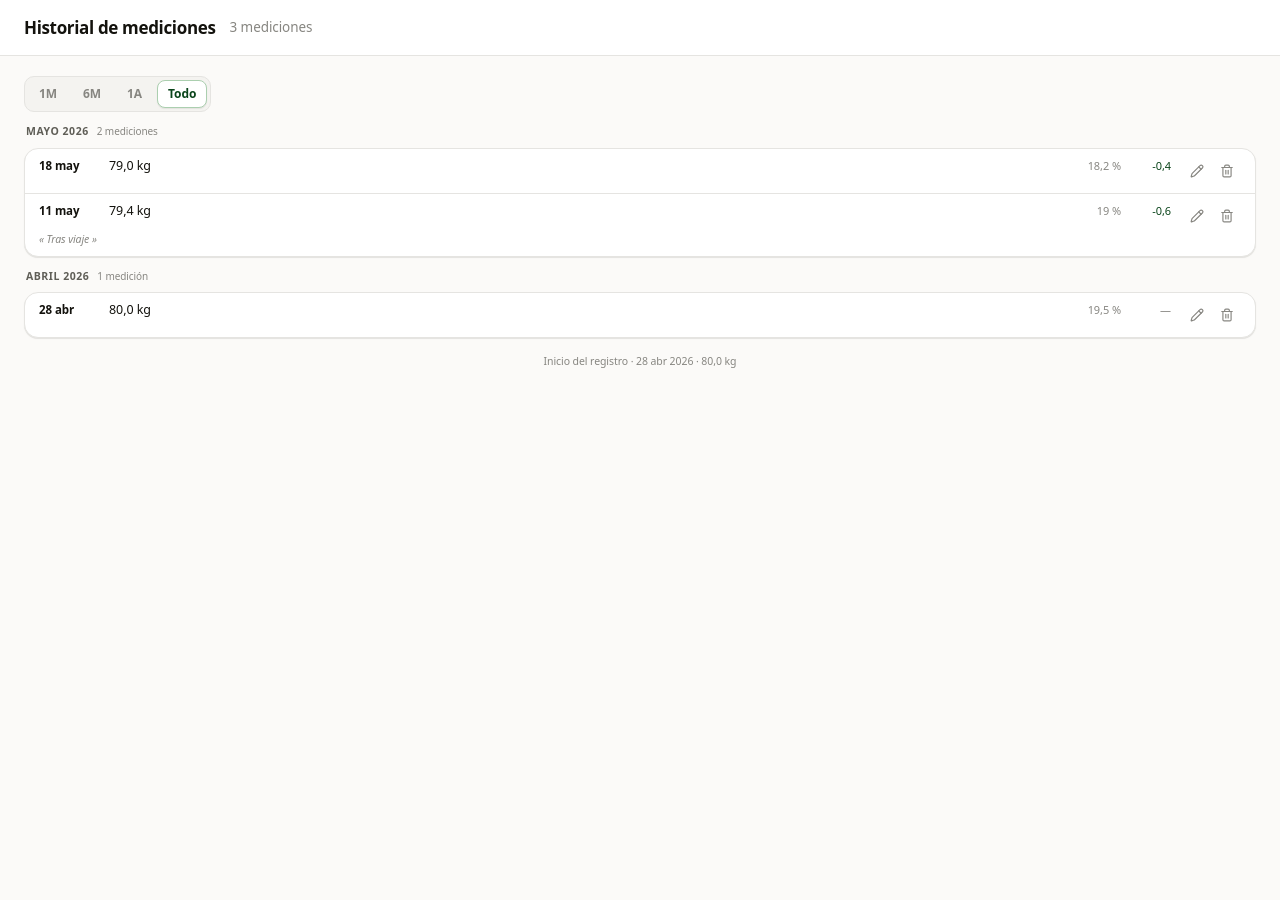
Test case: MeasurementHistoryPage › opens the measurement dialog from a row (edit)
The image size is (1280, 900).
Click the button named "Editar" next to "-0,4". click: click(1197, 171)
box: [1183,157,1211,185]
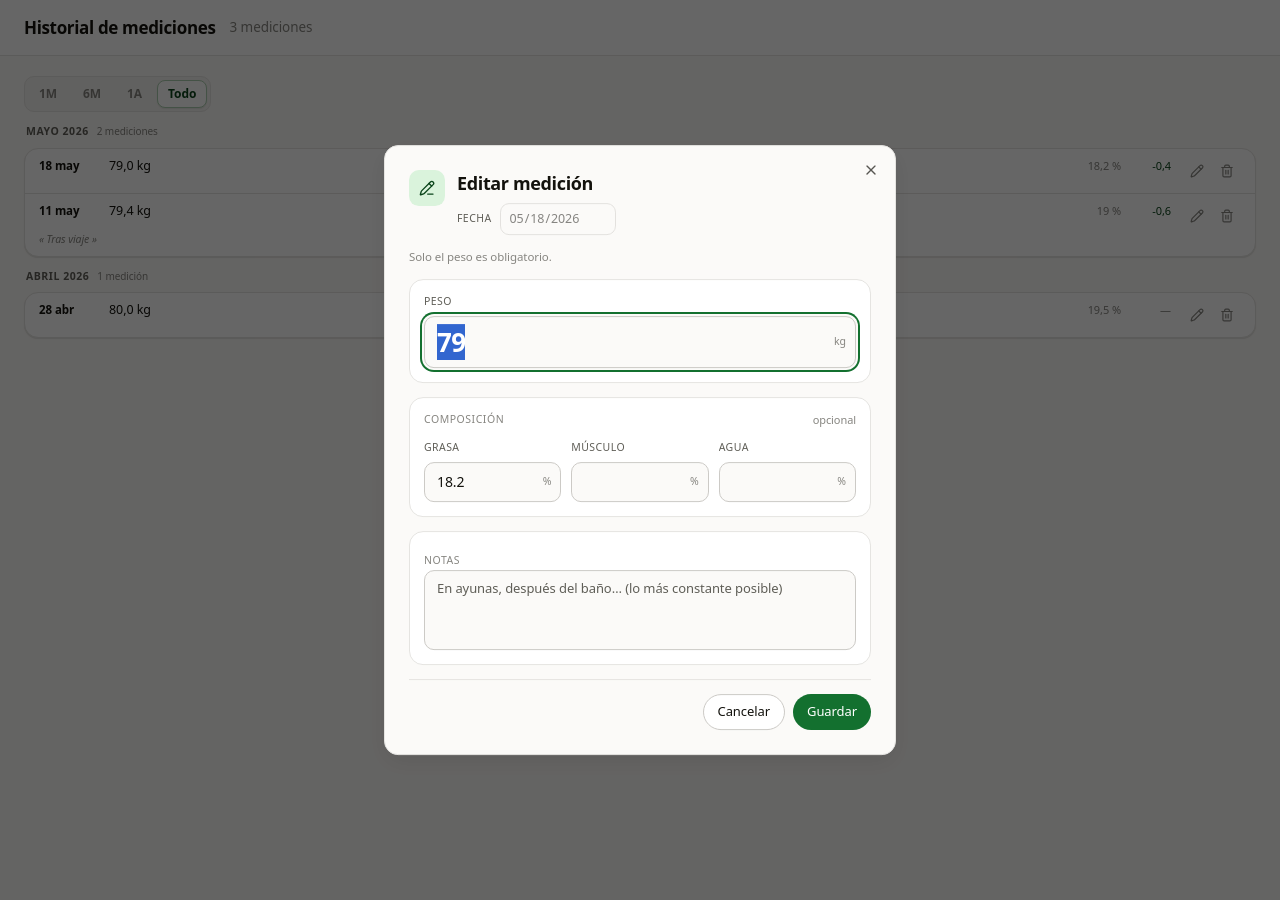
Now the dialog shows "Editar medición", box [457,171,593,195]
